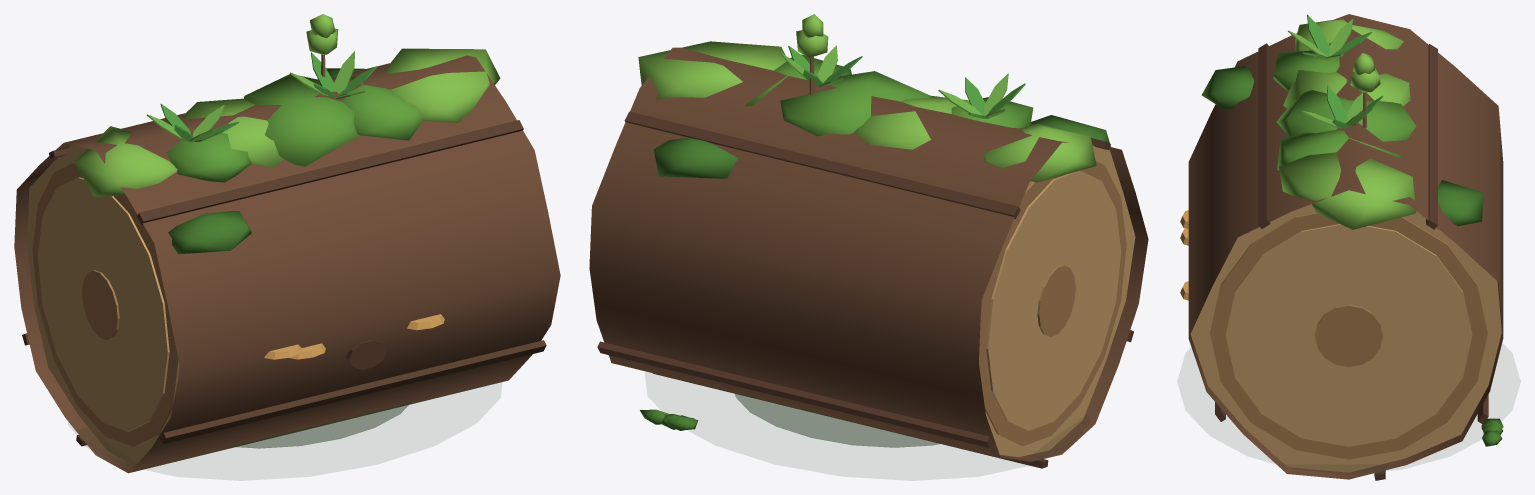
Rendered from fallen_trunk.glb.
3 renders of one model, left to right at view 1: azimuth 30°, elevation 25°; view 2: azimuth 150°, elevation 25°; view 3: azimuth 270°, elevation 25°, orthographic. The views are drawn at different scales.
Visible parts, largest first — view 1: fallen_trunk; view 2: fallen_trunk; view 3: fallen_trunk.
Boxes of the visible parts, x1,y1,x2,y2 form: fallen_trunk: [14, 14, 560, 473]; fallen_trunk: [589, 14, 1148, 468]; fallen_trunk: [1180, 14, 1503, 480].
Size of the model in its own units: 4.46 by 3.82 by 3.3.
